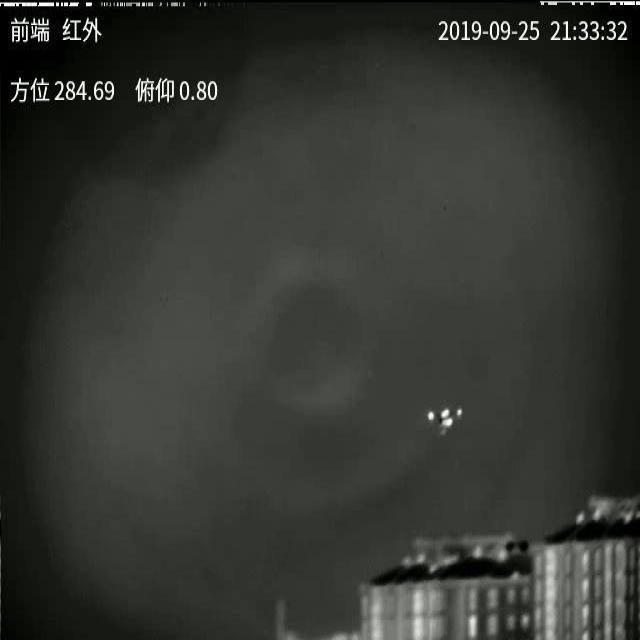drone: (425, 402, 470, 438)
